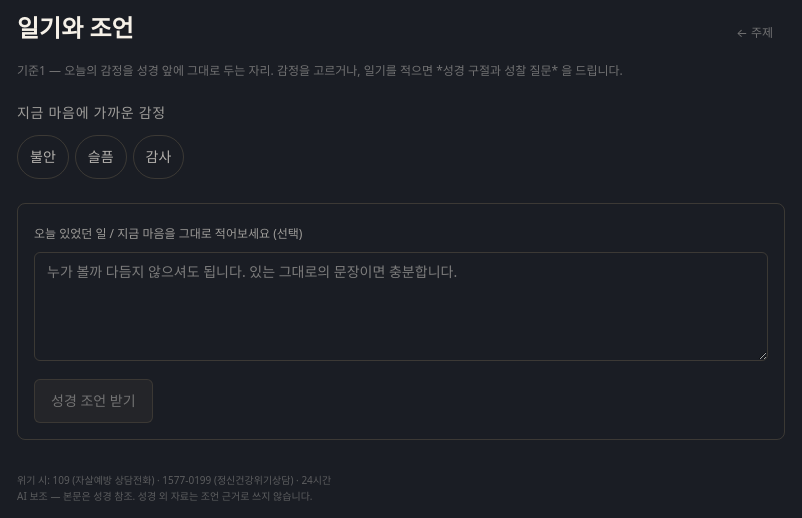
/topics/journal — 일기 텍스트로 조언 받기 › 감정 칩 조회가 실패해도 같은 자리에 실패를 알린다
The width and height of the screenshot is (802, 518).
Click the button "불안": click(43, 157) [17,135,69,179]
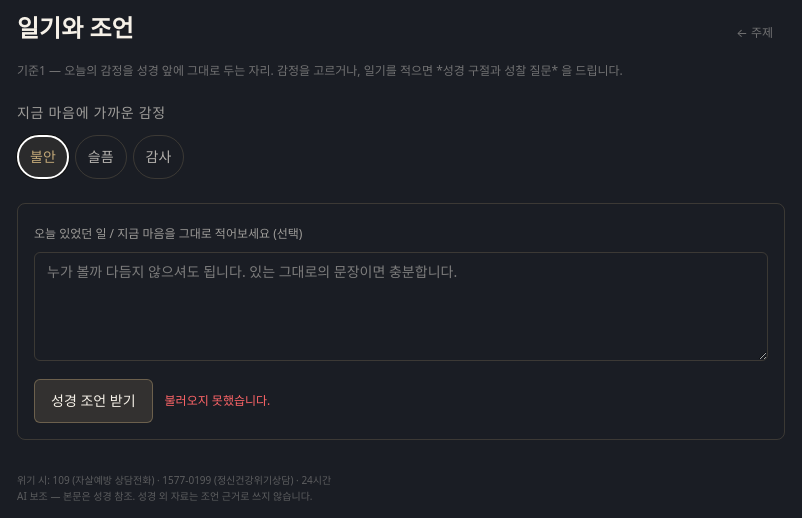
Now the text "불러오지 못했습니다." is shown, box [165,393,270,409]
